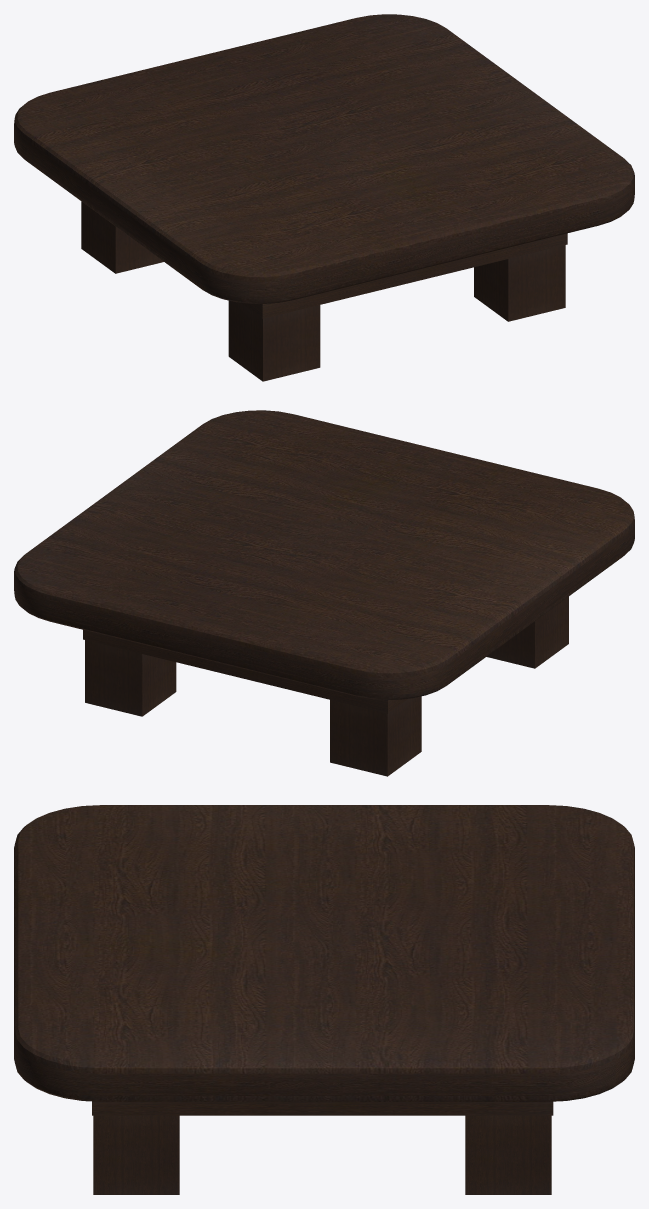
The model's file is Table 2.FBX.
The picture shows the model from 3 angles, top to bottom: view 1: azimuth 30°, elevation 25°; view 2: azimuth 150°, elevation 25°; view 3: azimuth 270°, elevation 25°; orthographic projection. The views are drawn at different scales.
Parts seen in each view (by area): view 1: table 2; view 2: table 2; view 3: table 2.
Boxes of the visible parts, x1,y1,x2,y2 form: table 2: [14, 14, 634, 381]; table 2: [14, 410, 634, 776]; table 2: [14, 805, 634, 1194].
Size of the model in its own units: 70.17 by 21.11 by 70.17.
1 material, 1 textured.
